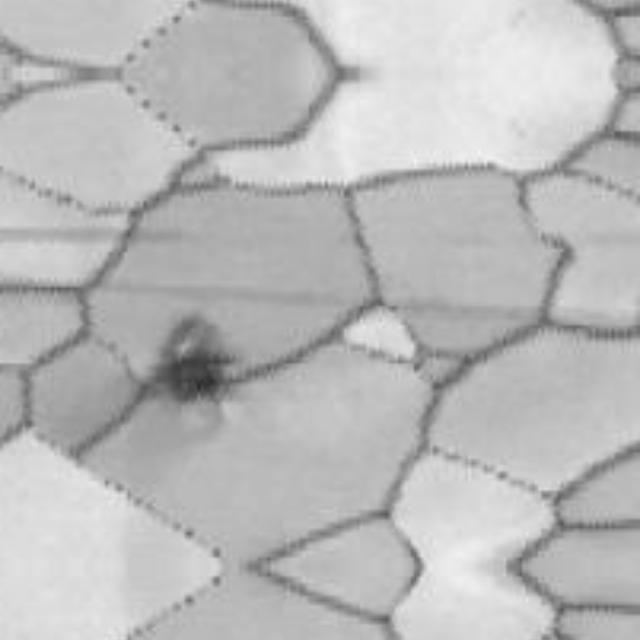good_void: (164, 312, 233, 407)
